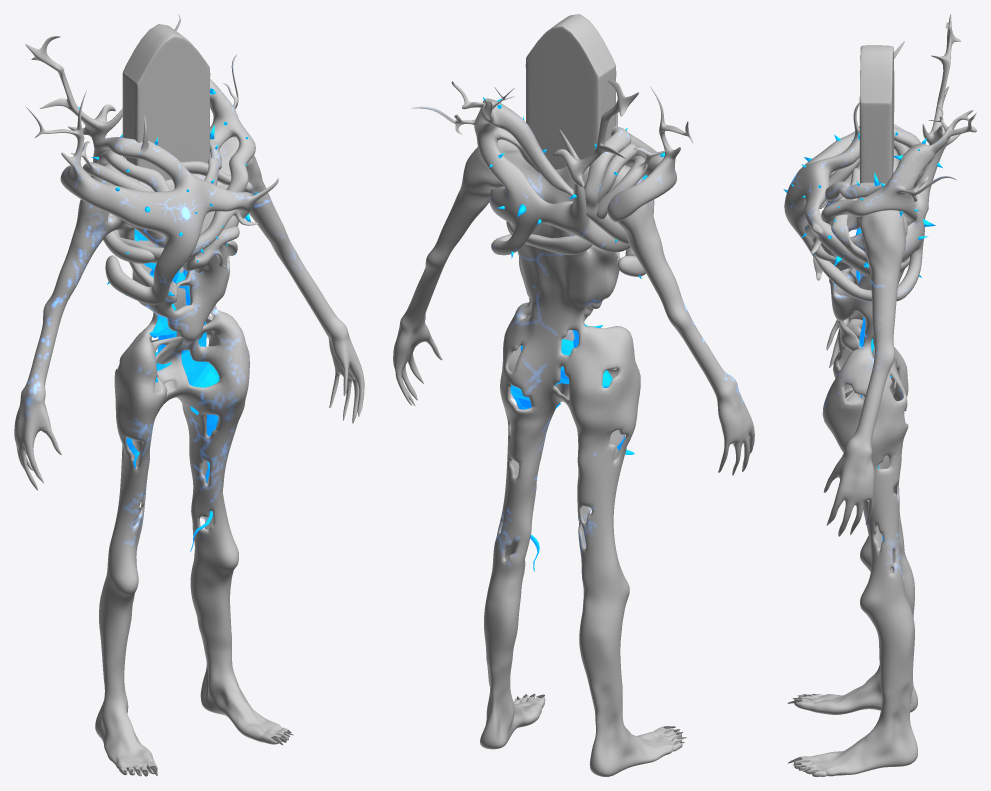
3 renders of one model, left to right at view 1: azimuth 30°, elevation 25°; view 2: azimuth 150°, elevation 25°; view 3: azimuth 270°, elevation 25°, orthographic. The views are drawn at different scales.
Visible parts, largest first — view 1: body1, wood_root_1_wood_roots_1_0, tomb, wood_root_2_wood_roots_2_0, root_light_body_uv_unwarp:phong1_0; view 2: body1, wood_root_2_wood_roots_2_0, tomb, wood_root_1_wood_roots_1_0, root_light_body_uv_unwarp:phong1_0; view 3: body1, wood_root_2_wood_roots_2_0, wood_root_1_wood_roots_1_0, tomb, Thorns.
Part boxes in pixels (x1,y1,x2,y2): body1: [14, 137, 364, 776]; wood_root_1_wood_roots_1_0: [25, 90, 278, 304]; tomb: [122, 24, 210, 181]; wood_root_2_wood_roots_2_0: [25, 14, 258, 273]; root_light_body_uv_unwarp:phong1_0: [126, 229, 219, 551]; body1: [393, 139, 754, 776]; wood_root_2_wood_roots_2_0: [412, 80, 667, 255]; tomb: [525, 14, 616, 169]; wood_root_1_wood_roots_1_0: [506, 86, 693, 276]; root_light_body_uv_unwarp:phong1_0: [510, 175, 647, 571]; body1: [794, 149, 917, 776]; wood_root_2_wood_roots_2_0: [804, 14, 976, 302]; wood_root_1_wood_roots_1_0: [784, 41, 923, 276]; tomb: [859, 45, 894, 183]; Thorns: [783, 105, 942, 284].
Size of the model in its own units: 4.69 by 9.42 by 2.4.
